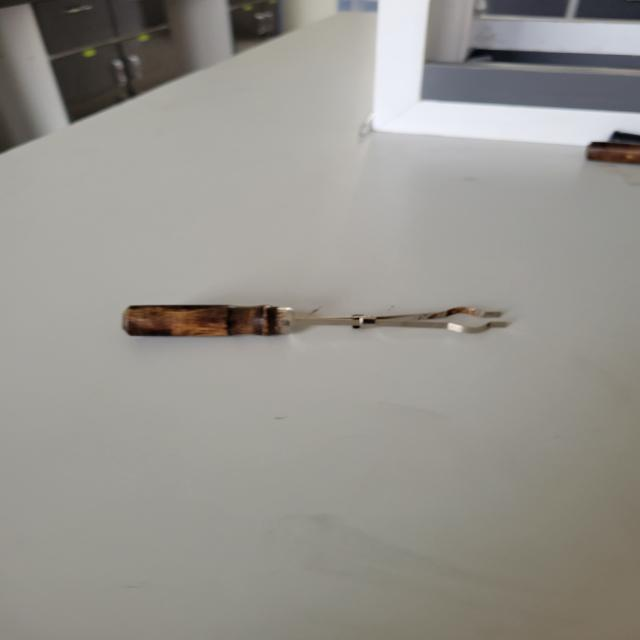TestTube_Holder: (98, 245, 526, 396)
